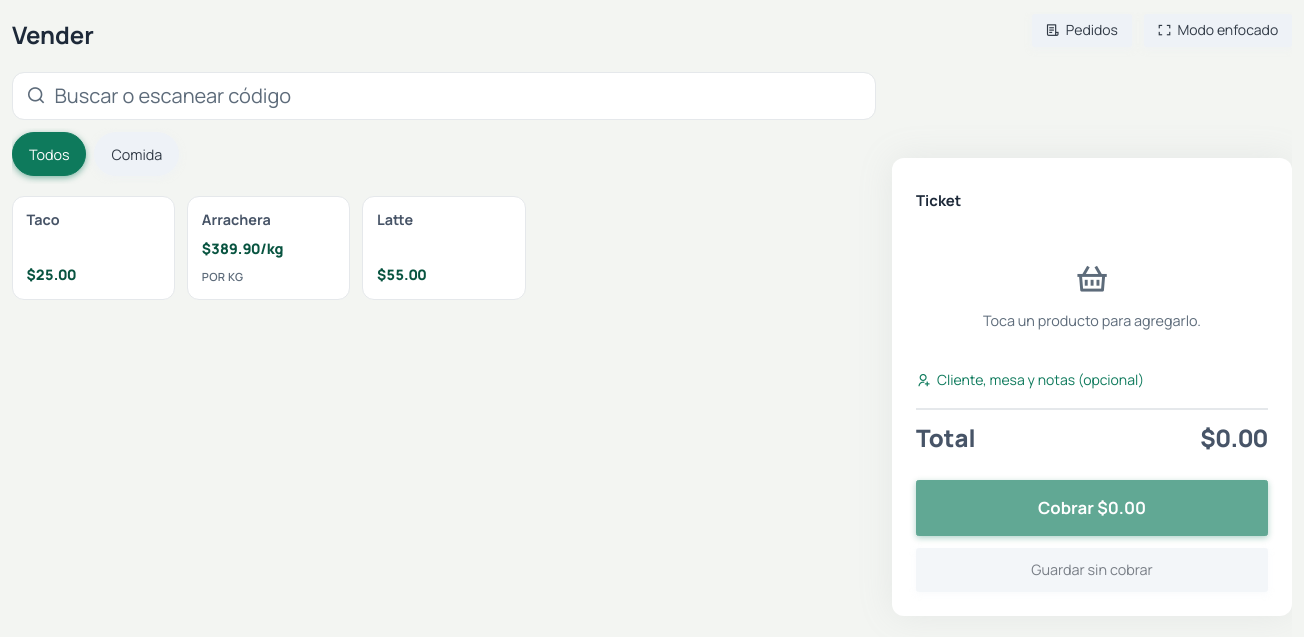
SellPage › adds what is tapped and saves the sale for later with the server checking the total
Click the button with aria-label "Agregar Taco".
click(94, 248)  # box left=12, top=196, right=175, bottom=300
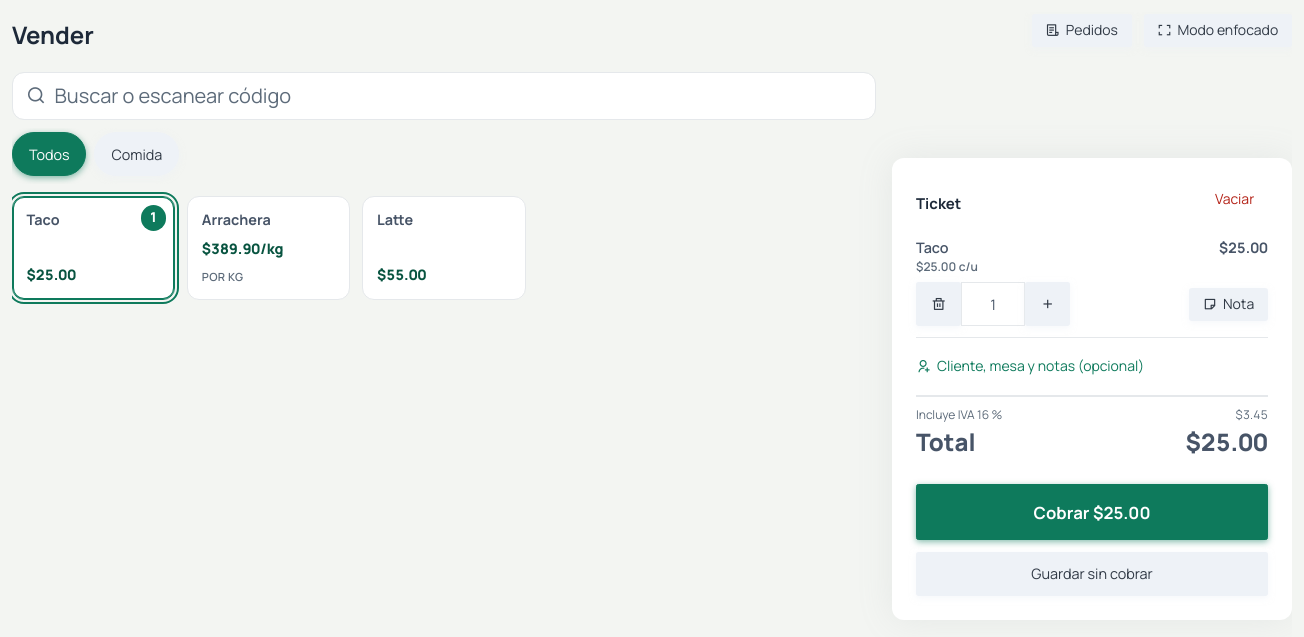
Click the button with aria-label "Agregar Taco".
click(94, 248)  # box left=12, top=196, right=175, bottom=300
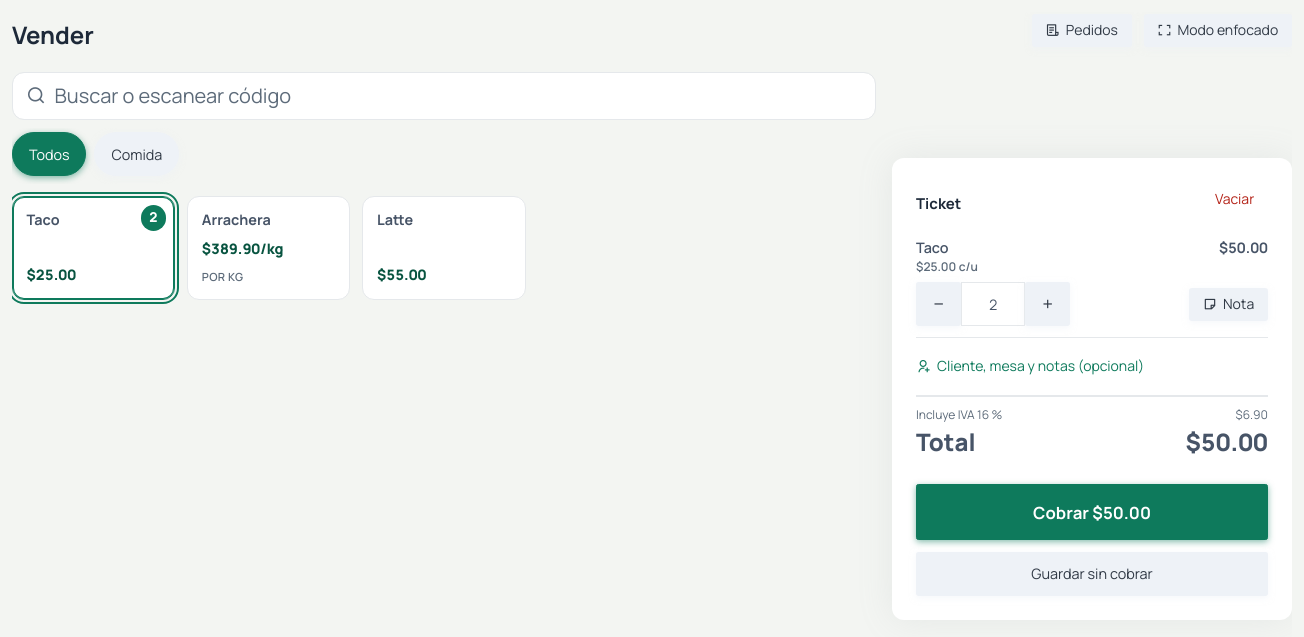
Expected: the button "Cobrar $50.00" is enabled, left=916, top=484, right=1268, bottom=540
Expected: the field named "Cantidad de Taco" holds "2", left=961, top=282, right=1025, bottom=326
Click the button "Guardar sin cobrar".
click(1092, 574)  # box left=916, top=552, right=1268, bottom=596
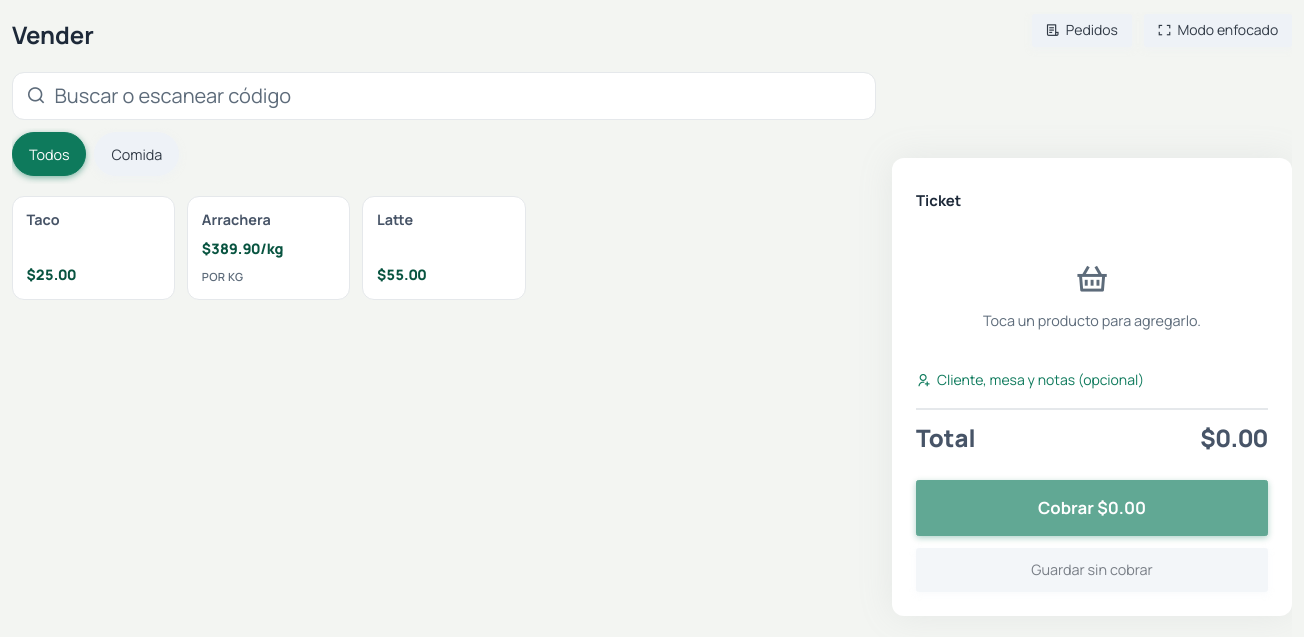
Expected: the text "Toca un producto para agregarlo." is shown, left=983, top=311, right=1201, bottom=330
